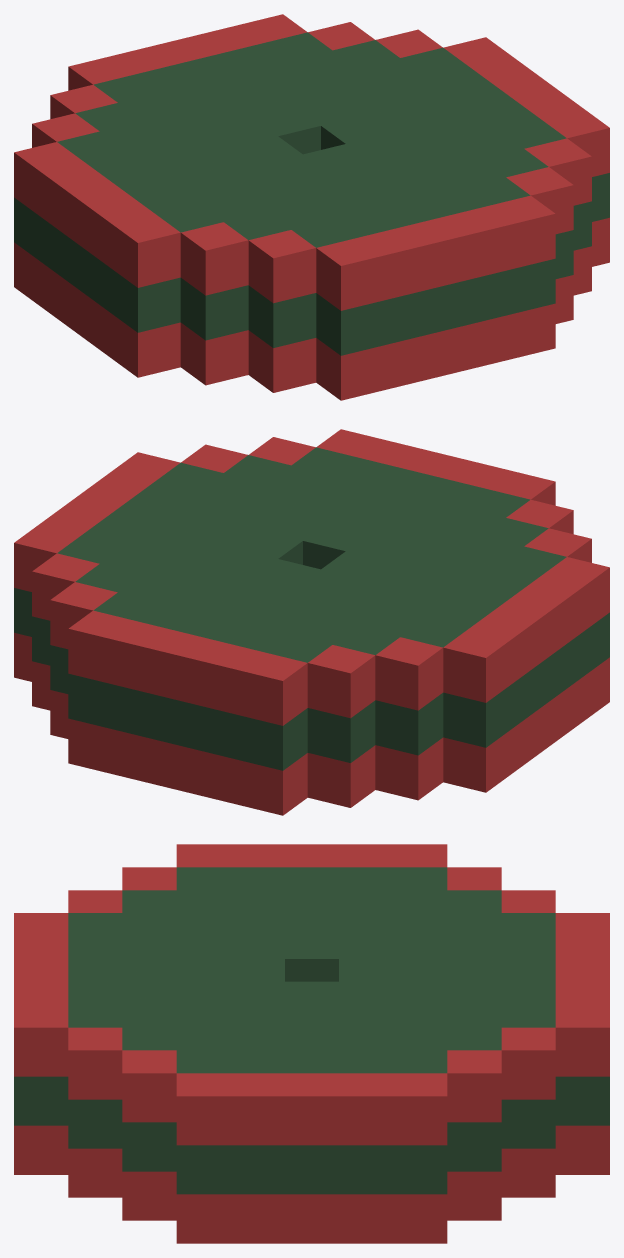
File: tirobasixo.obj
3 renders of one model, top to bottom at view 1: azimuth 30°, elevation 25°; view 2: azimuth 150°, elevation 25°; view 3: azimuth 270°, elevation 25°, orthographic. The views are drawn at different scales.
Size of the model in its own units: 11 by 3 by 11.
1 material, 1 textured.
